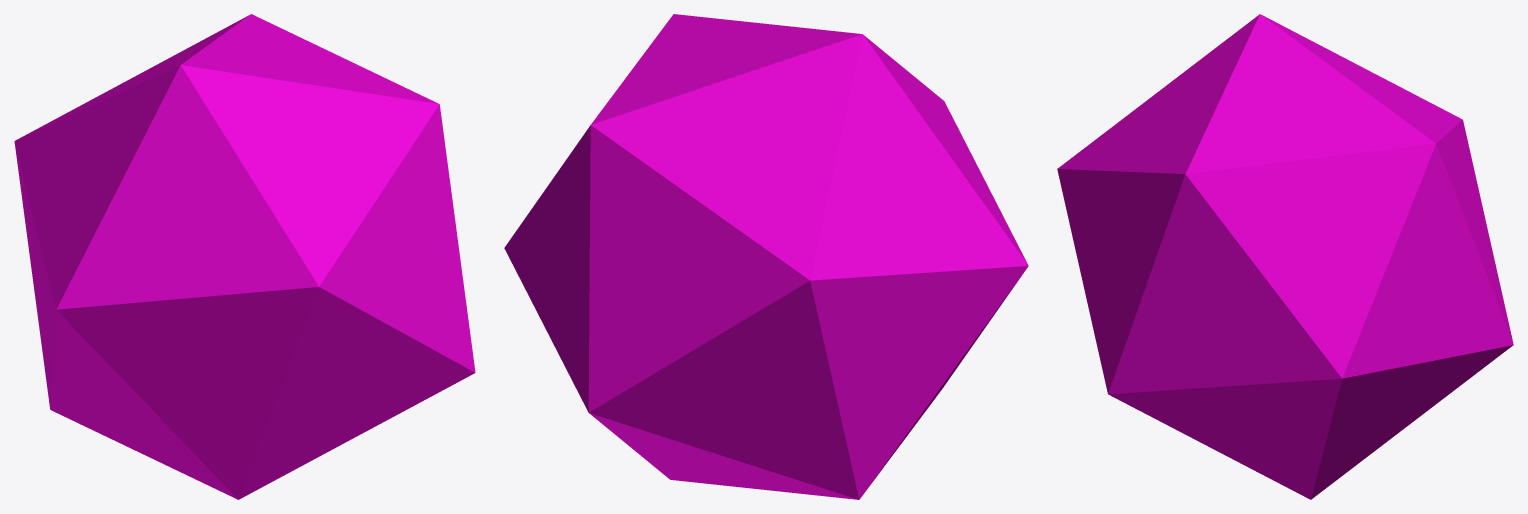
File: Crystal2.fbx
3 views of the same model, side by side, from view 1: azimuth 30°, elevation 25°; view 2: azimuth 150°, elevation 25°; view 3: azimuth 270°, elevation 25° (orthographic). The views are drawn at different scales.
Visible parts, largest first — view 1: Crystal2; view 2: Crystal2; view 3: Crystal2.
Part boxes in pixels (<box>): Crystal2: <box>14,14,475,499</box>; Crystal2: <box>504,14,1028,499</box>; Crystal2: <box>1057,14,1513,499</box>.
Bounding box in the file's own units: 1.94 × 1.87 × 1.86.
